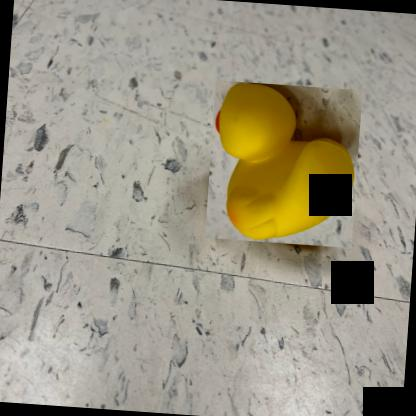duck: (205, 80, 362, 248)
